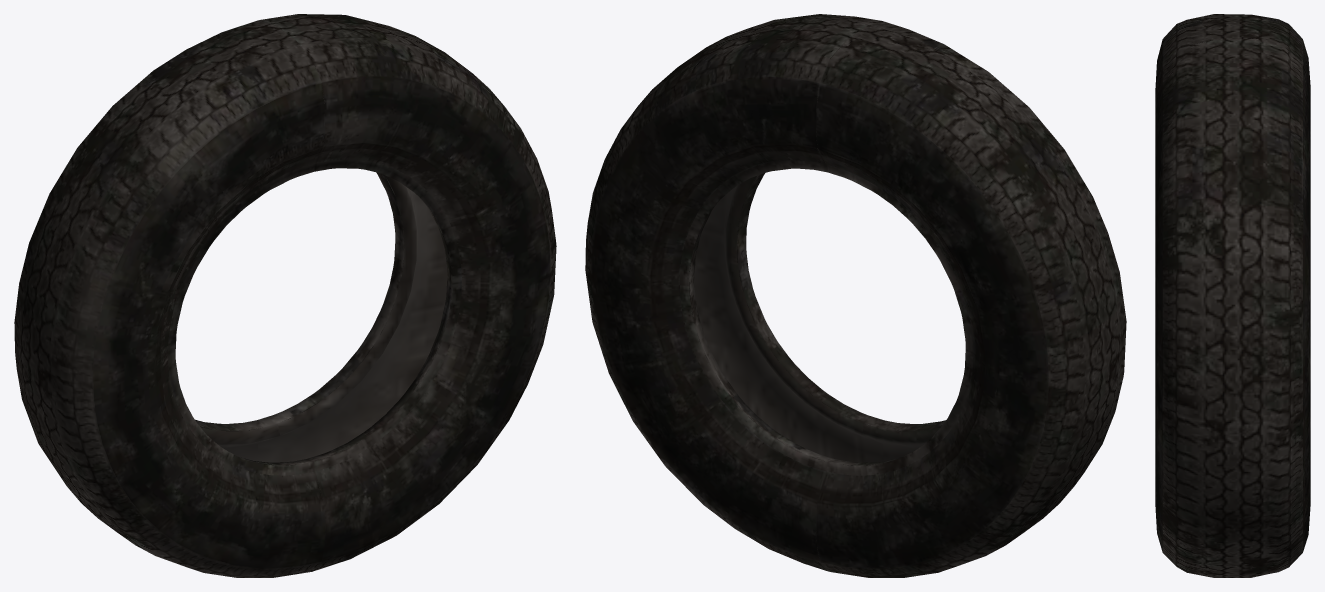
The model's file is ph_tyre.glb.
The picture shows the model from 3 angles, left to right: view 1: azimuth 30°, elevation 25°; view 2: azimuth 150°, elevation 25°; view 3: azimuth 270°, elevation 25°; orthographic projection. The views are drawn at different scales.
Parts seen in each view (by area): view 1: old_tyre; view 2: old_tyre; view 3: old_tyre.
Part boxes in pixels (box(x1,y1,x2,y2)): old_tyre: box(14, 14, 556, 577); old_tyre: box(585, 14, 1126, 577); old_tyre: box(1155, 14, 1310, 577).
Size of the model in its own units: 0.6002 by 0.6 by 0.1651.
Materials: 1 (1 with a texture image).
